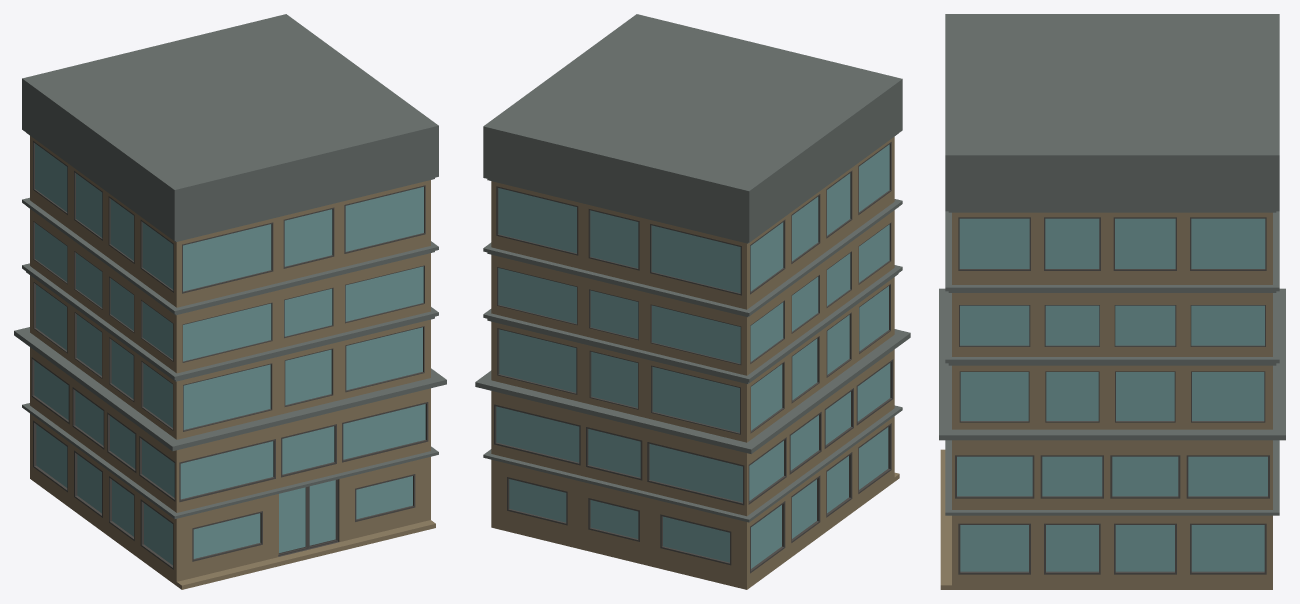
The model's file is ScyscraperSeparated 1.fbx.
The picture shows the model from 3 angles, left to right: view 1: azimuth 30°, elevation 25°; view 2: azimuth 150°, elevation 25°; view 3: azimuth 270°, elevation 25°; orthographic projection. The views are drawn at different scales.
Parts seen in each view (by area): view 1: Skyscraper, Skyscraper.001; view 2: Skyscraper, Skyscraper.001; view 3: Skyscraper, Skyscraper.001.
Part boxes in pixels (x1,y1,x2,y2): Skyscraper: (14, 136, 446, 589); Skyscraper.001: (22, 14, 438, 241); Skyscraper: (475, 137, 910, 589); Skyscraper.001: (483, 14, 902, 243); Skyscraper: (939, 211, 1285, 589); Skyscraper.001: (945, 14, 1279, 212).
Size of the model in its own units: 216 by 301 by 216.
